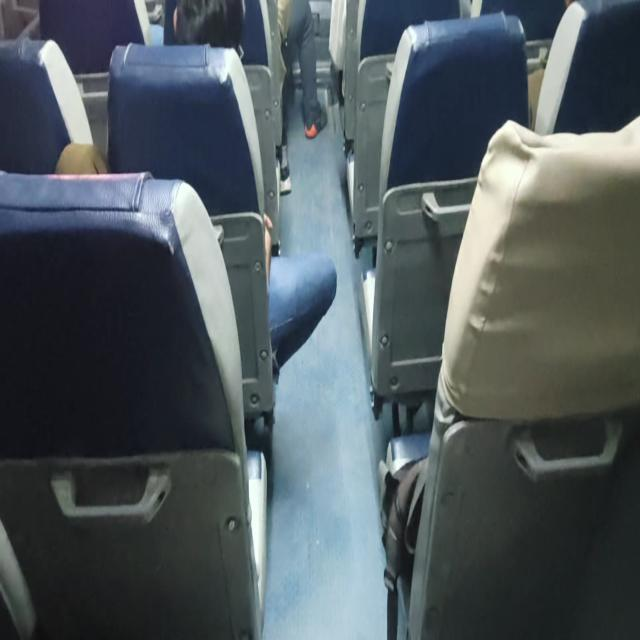person: (55, 139, 337, 380), (276, 0, 328, 139), (170, 0, 244, 54), (55, 141, 110, 175)
